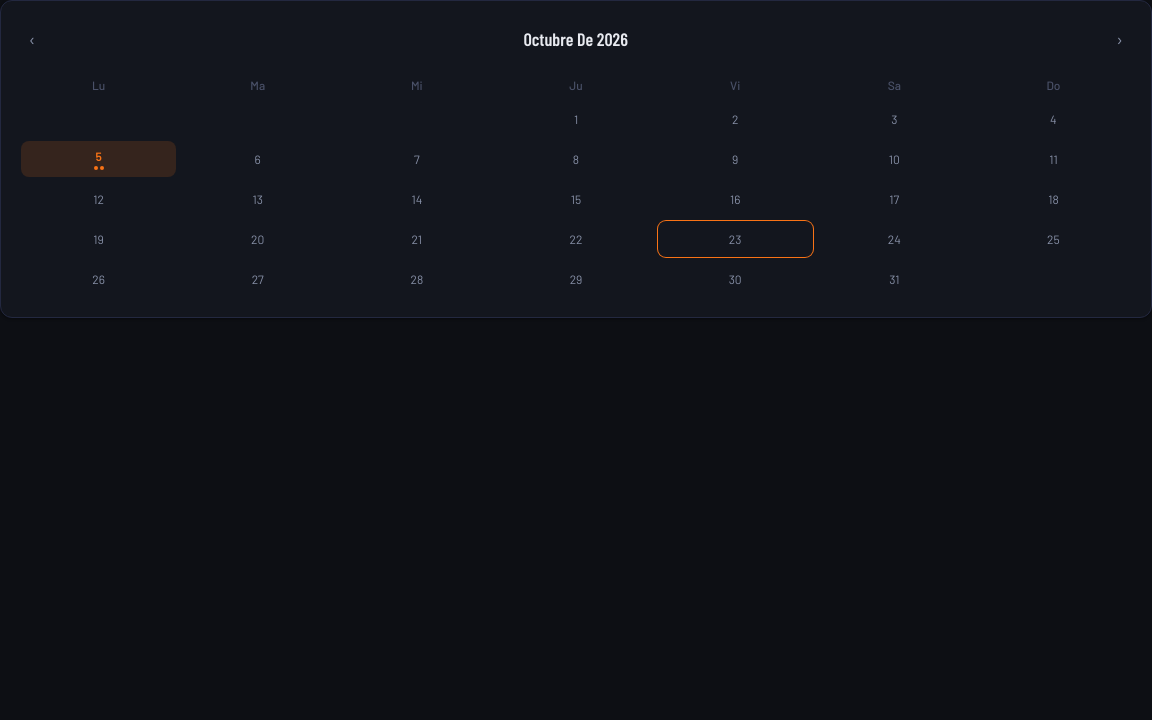
it: Calendar day modal (dashboard UX) › closes when Escape is pressed
Click the button "5" at (99, 159), box [21, 141, 176, 177]
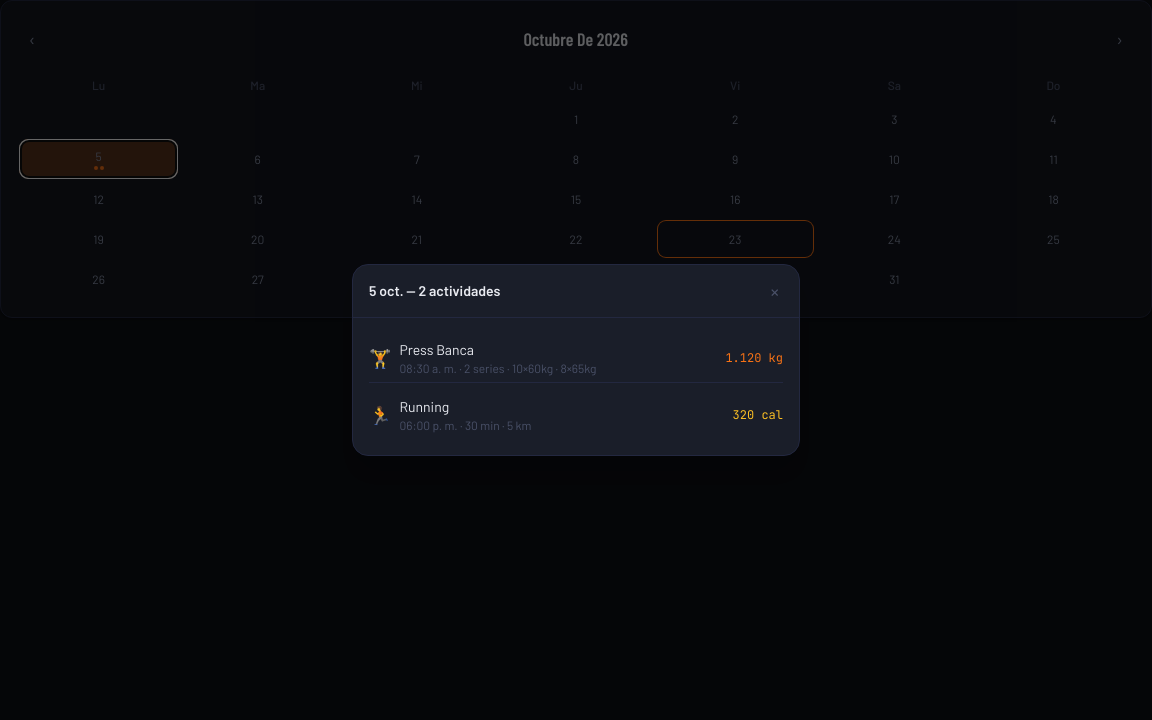
Result: the dialog is shown at [352, 264, 800, 456]
Press Escape
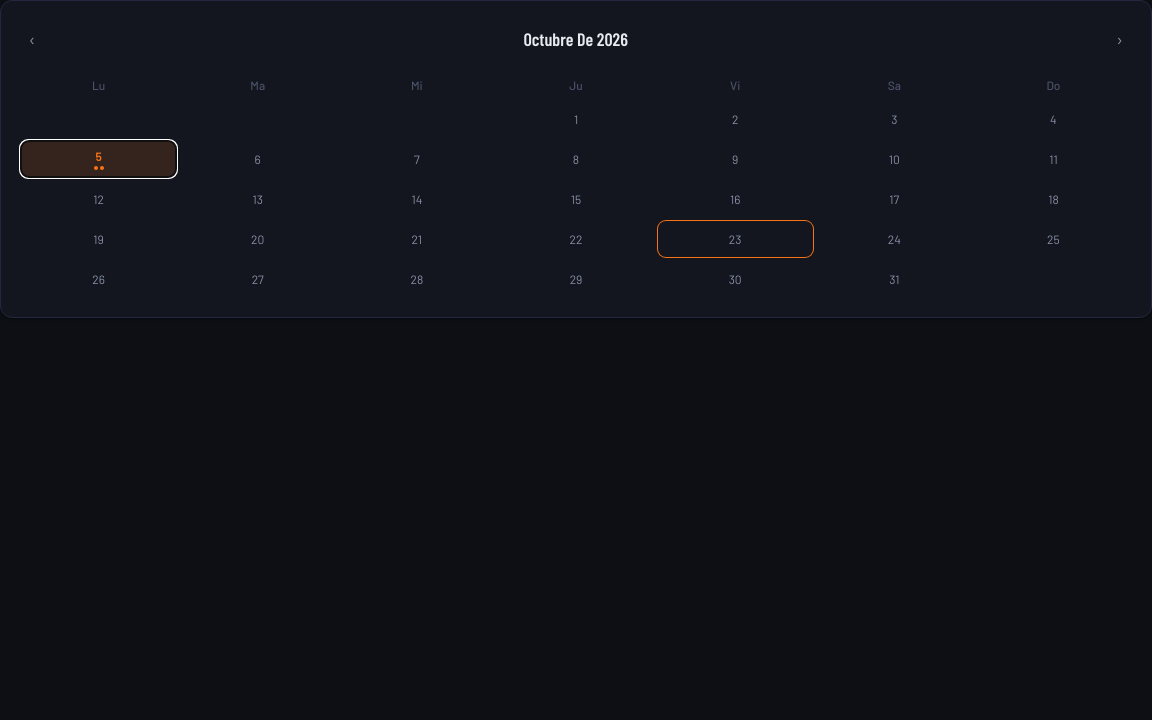
Result: the dialog is gone
